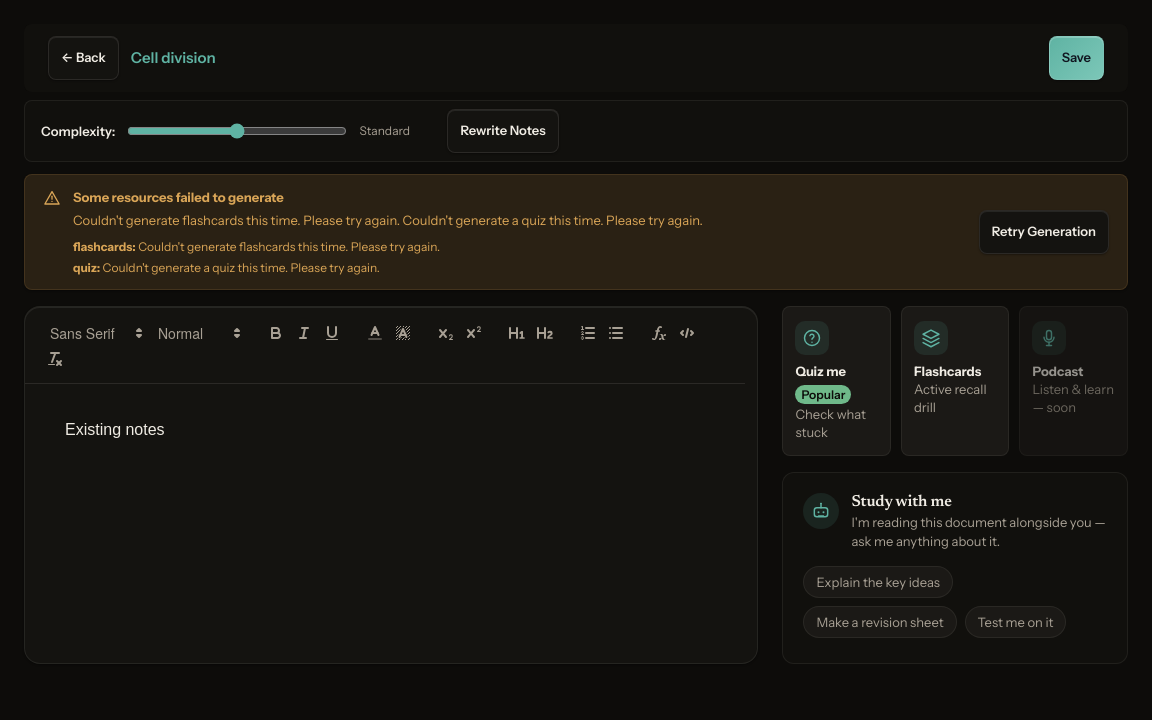
Test case: NotesView › Complexity Slider › changes the label when the slider moves
Check: the text "Complexity:" is shown, box [41, 121, 116, 141]
Set the slider to "5": (340, 131) [128, 123, 348, 139]
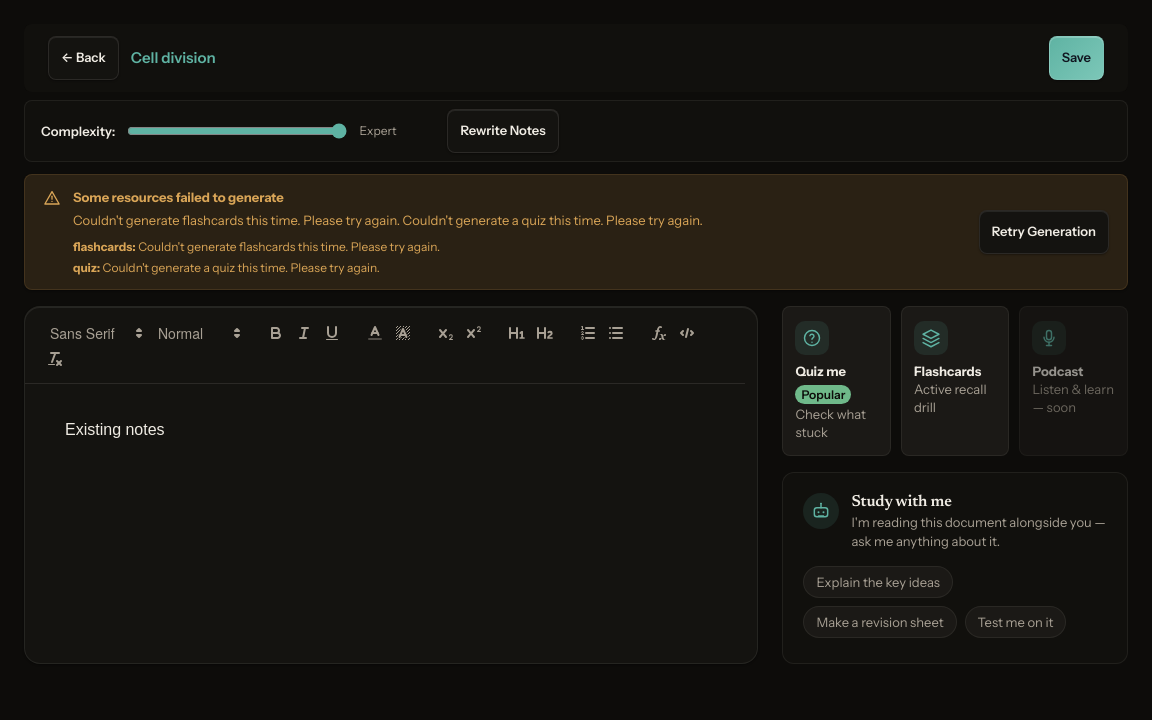
Check: the text "Expert" is shown, box [360, 123, 397, 138]
